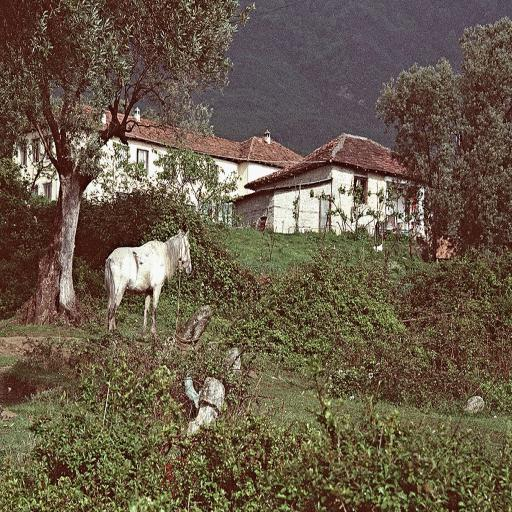horse: (103, 224, 193, 342)
